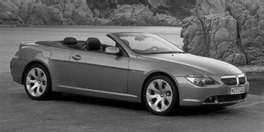car: (6, 26, 254, 120)
